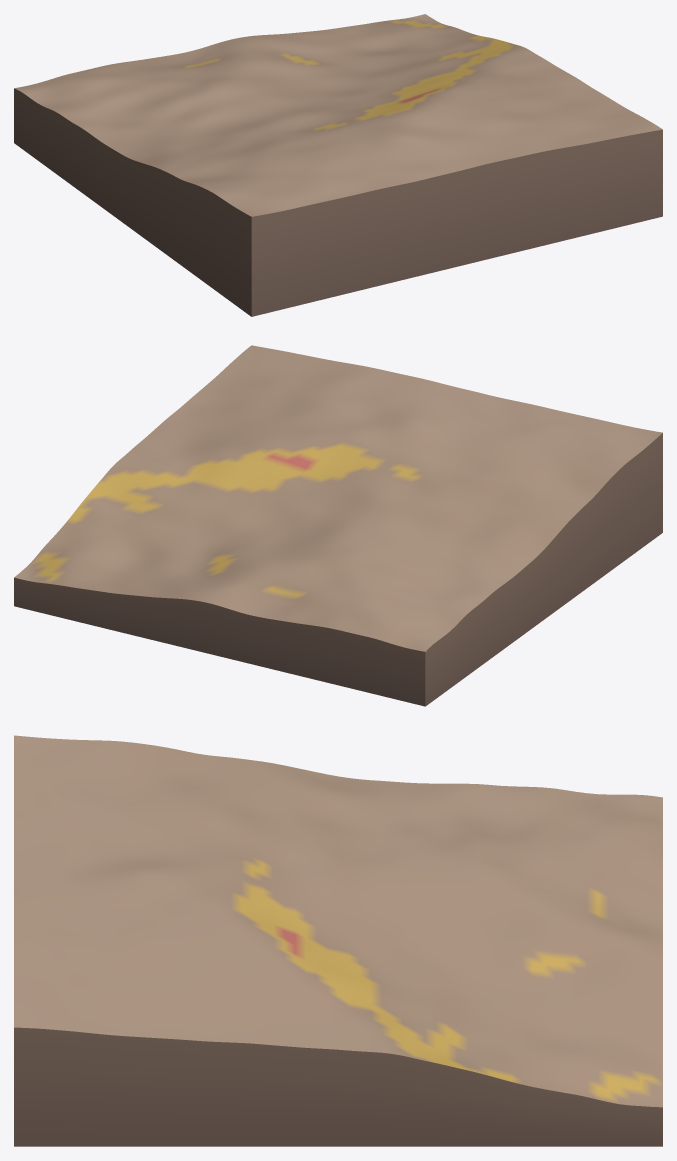
Rendered from wp3-ledges.glb.
3 views of the same model, one above another, from view 1: azimuth 30°, elevation 25°; view 2: azimuth 150°, elevation 25°; view 3: azimuth 270°, elevation 25° (orthographic). The views are drawn at different scales.
Parts seen in each view (by area): view 1: wp3-ledges; view 2: wp3-ledges; view 3: wp3-ledges.
Part boxes in pixels (<box>): wp3-ledges: <box>14,14,662,316</box>; wp3-ledges: <box>14,345,662,706</box>; wp3-ledges: <box>14,735,662,1146</box>.
Size of the model in its own units: 60.01 by 13.96 by 60.01.
